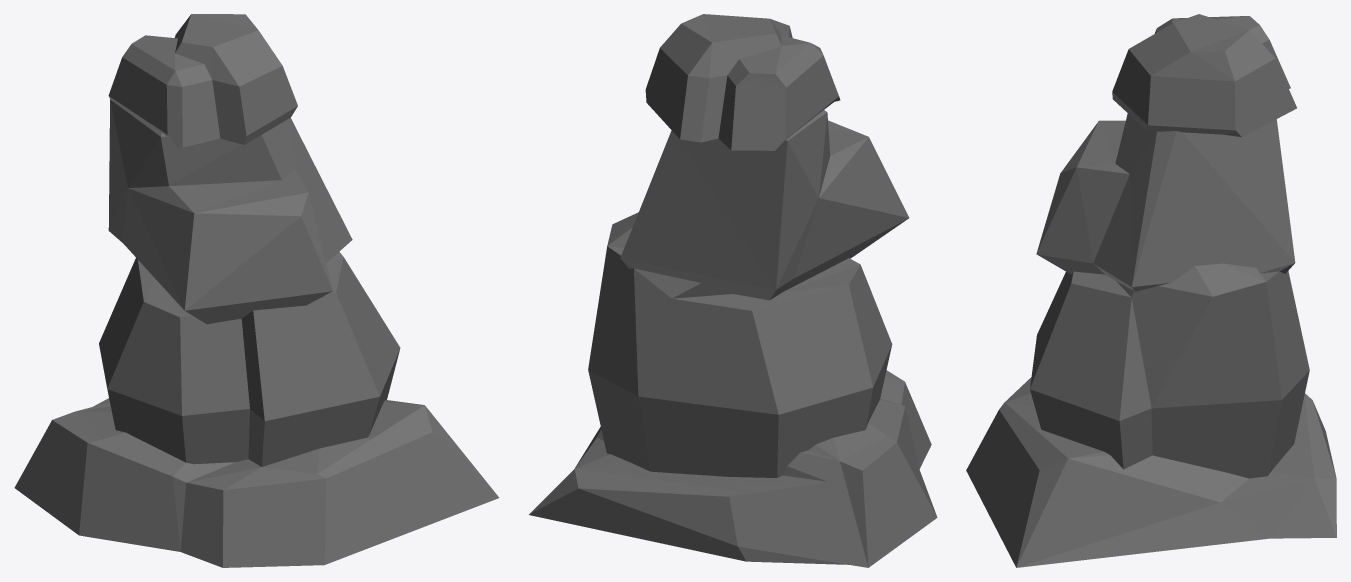
The model's file is rock__rockform_column_medium.glb.
3 views of the same model, side by side, from view 1: azimuth 30°, elevation 25°; view 2: azimuth 150°, elevation 25°; view 3: azimuth 270°, elevation 25° (orthographic). The views are drawn at different scales.
Visible parts, largest first — view 1: rockform.column.medium; view 2: rockform.column.medium; view 3: rockform.column.medium.
Part boxes in pixels (left/top/right/bottom): rockform.column.medium: left=14, top=14, right=499, bottom=567; rockform.column.medium: left=529, top=14, right=937, bottom=567; rockform.column.medium: left=966, top=14, right=1336, bottom=567.
Size of the model in its own units: 12.37 by 14.87 by 11.23.
1 material, 1 textured.
